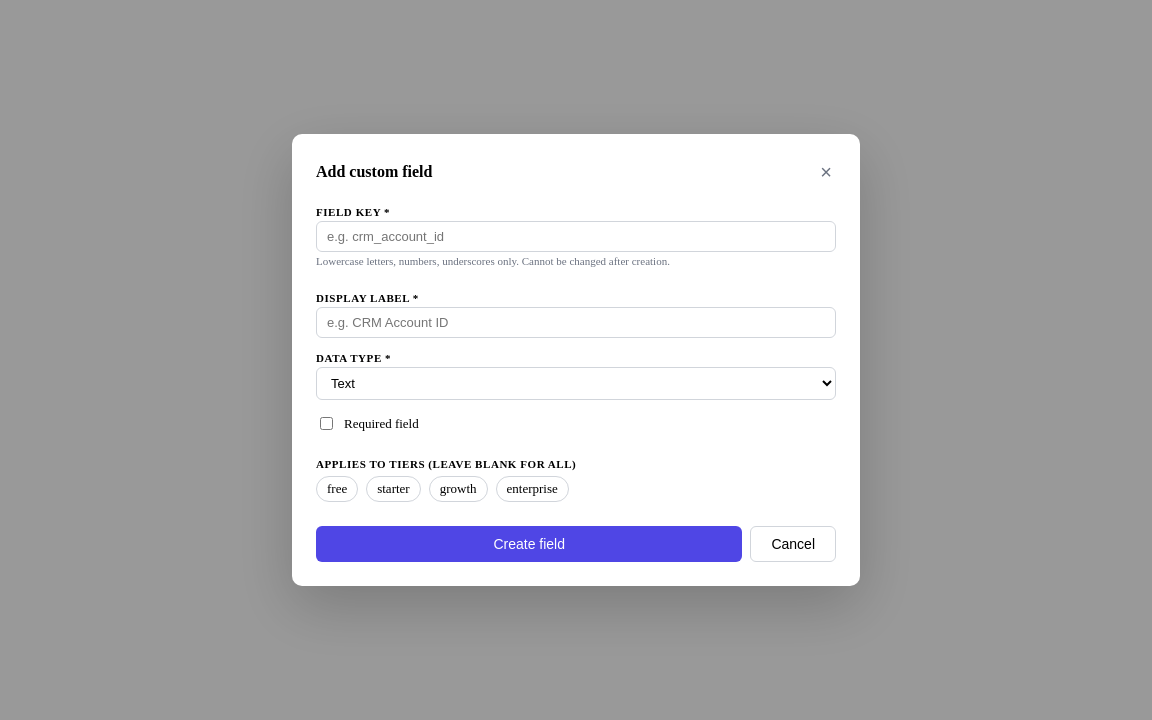
AddCustomFieldModal › shows options section when select type is chosen
Select "Single select" in the dropdown labelled "Data type *" at coordinates (576, 384), box left=316, top=367, right=836, bottom=400
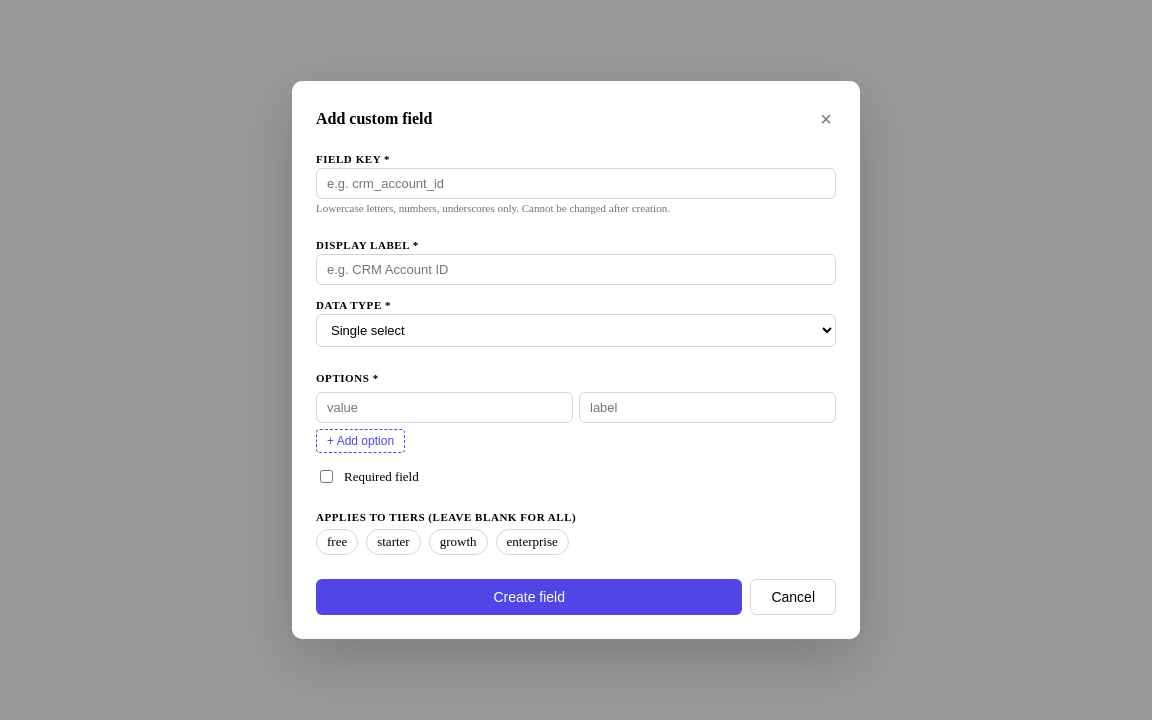
expect the text "Options *" is shown: met, box left=316, top=372, right=379, bottom=384
